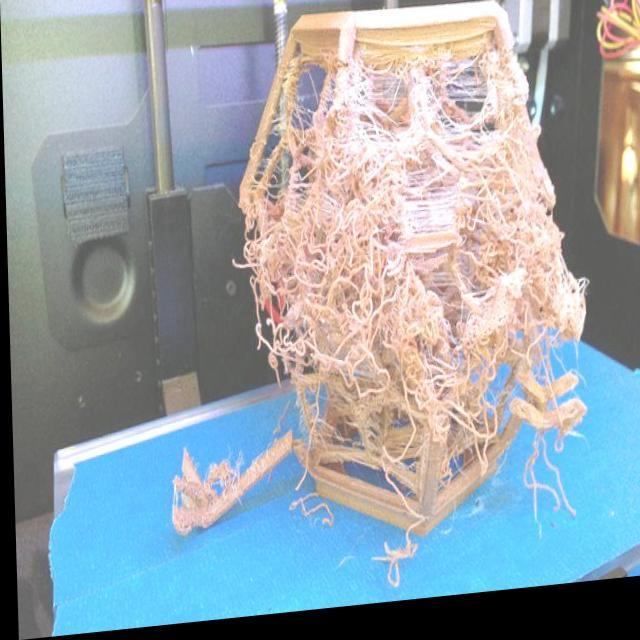spaghetti: (262, 56, 580, 475)
